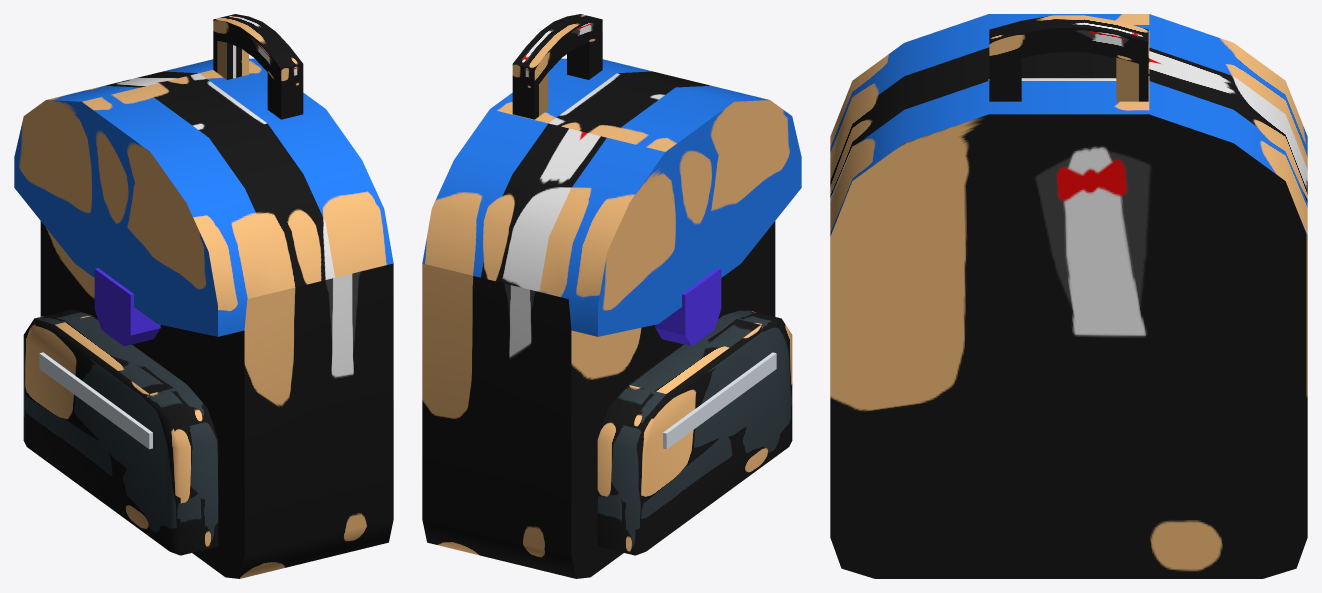
File: Backpack.FBX
3 renders of one model, left to right at view 1: azimuth 30°, elevation 25°; view 2: azimuth 150°, elevation 25°; view 3: azimuth 270°, elevation 25°, orthographic. The views are drawn at different scales.
Visible parts, largest first — view 1: Box1233; view 2: Box1233; view 3: Box1233.
Part boxes in pixels (bbox=[...]): Box1233: bbox=[14, 14, 393, 578]; Box1233: bbox=[422, 14, 801, 578]; Box1233: bbox=[830, 14, 1307, 578].
Bounding box in the file's own units: 0.4474 × 0.9937 × 0.7992.
